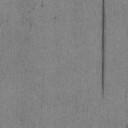surface scratch: (101, 0, 106, 94)
